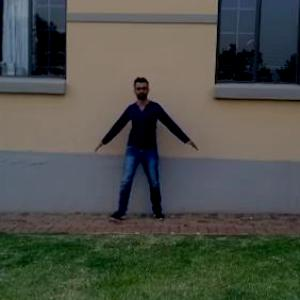land: (96, 80, 197, 234)
